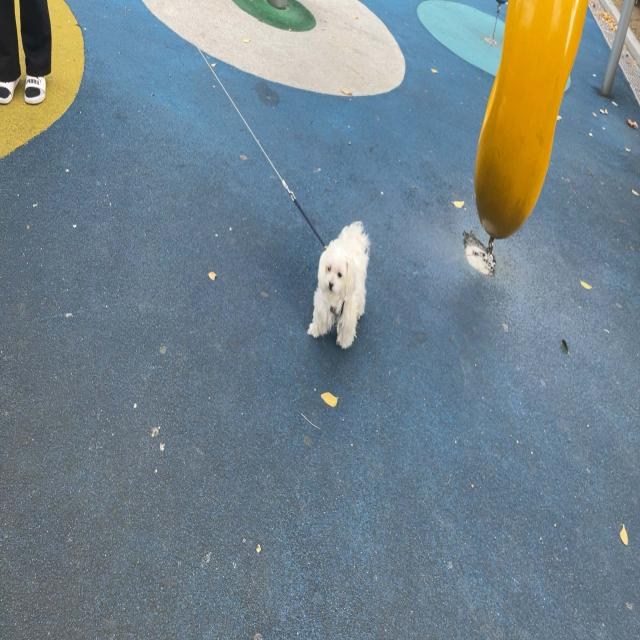Dog: (308, 218, 370, 351)
